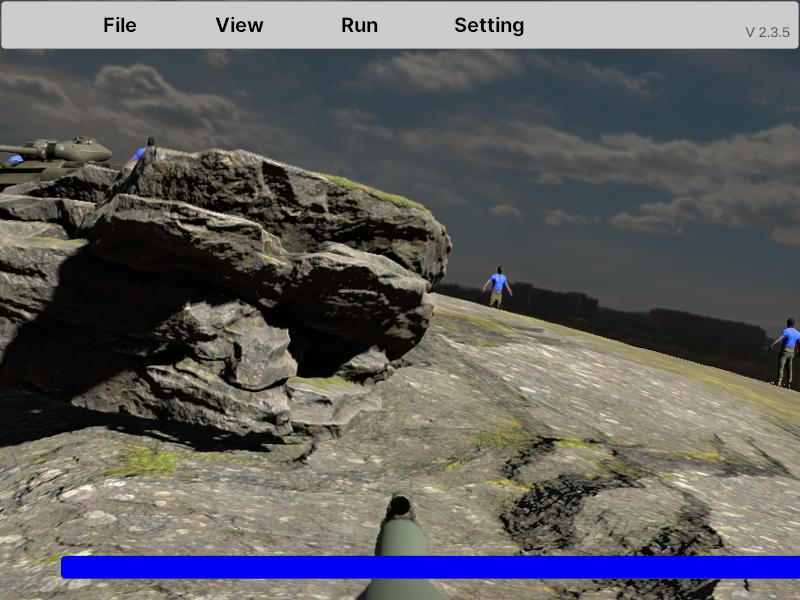Human: (769, 317, 800, 389), (482, 265, 513, 326)
